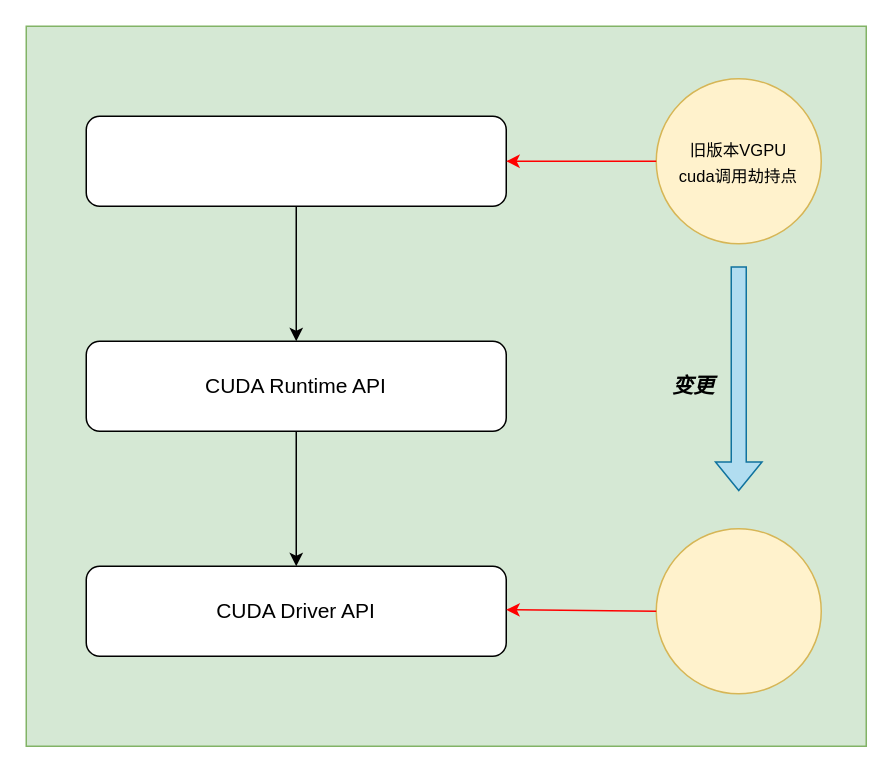
Some shapes in this 893 by 773 pixel diagram are drawn without their labels. Here are the shapes that lost their labels. From the top down, the centre of each, then its label:
the point at 295,160: CUDA Libraries
the point at 738,610: 新版本VGPU cuda调用劫持点
